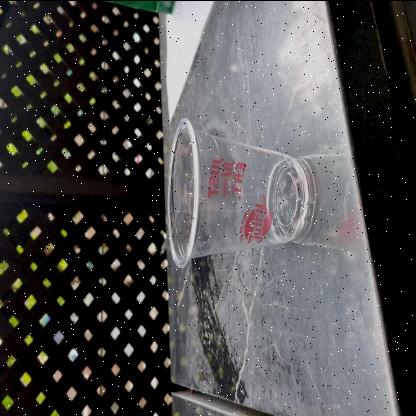Others: (165, 112, 315, 264)
